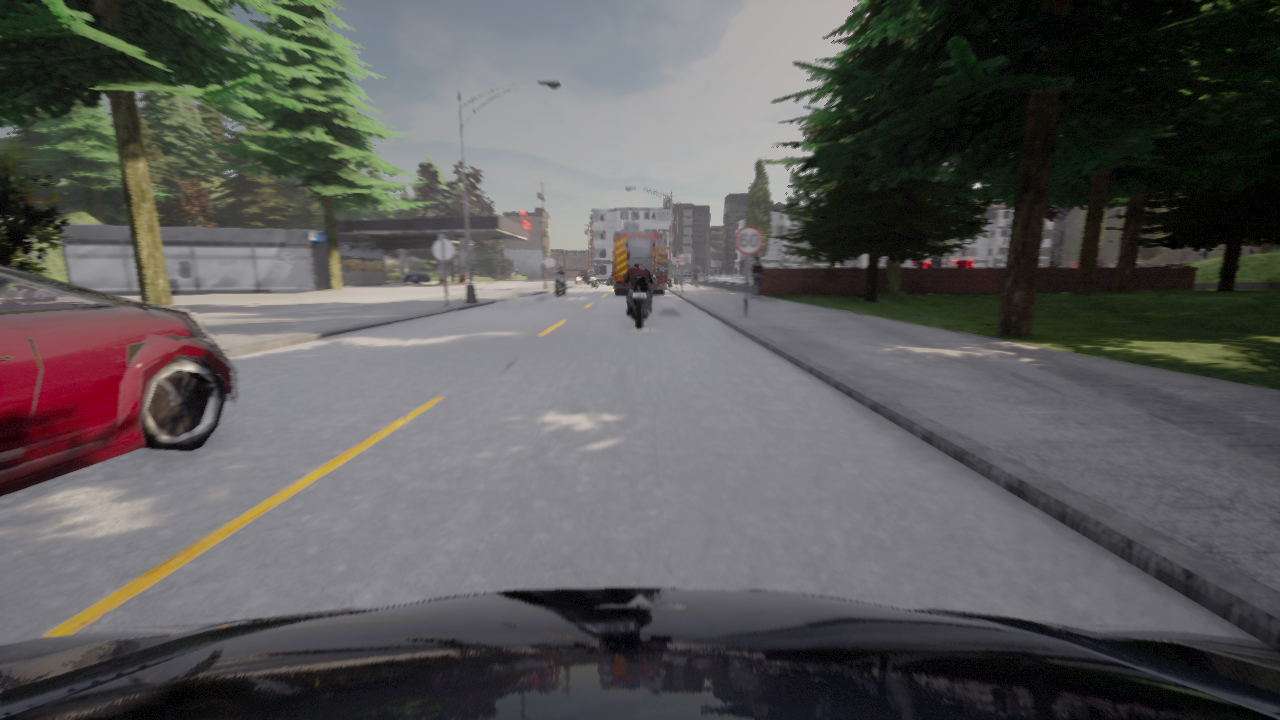cyclist: (0, 588, 1279, 719), (613, 223, 665, 295), (622, 274, 656, 328), (403, 270, 430, 284), (552, 275, 565, 297), (578, 272, 597, 287), (700, 273, 708, 280), (607, 276, 612, 284), (682, 272, 692, 276)
pedestrian: (750, 256, 763, 299), (691, 264, 700, 287)
